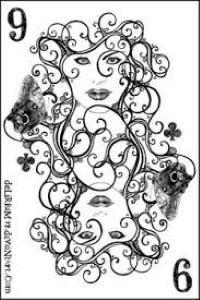NineOfClubs: (2, 5, 196, 299)
